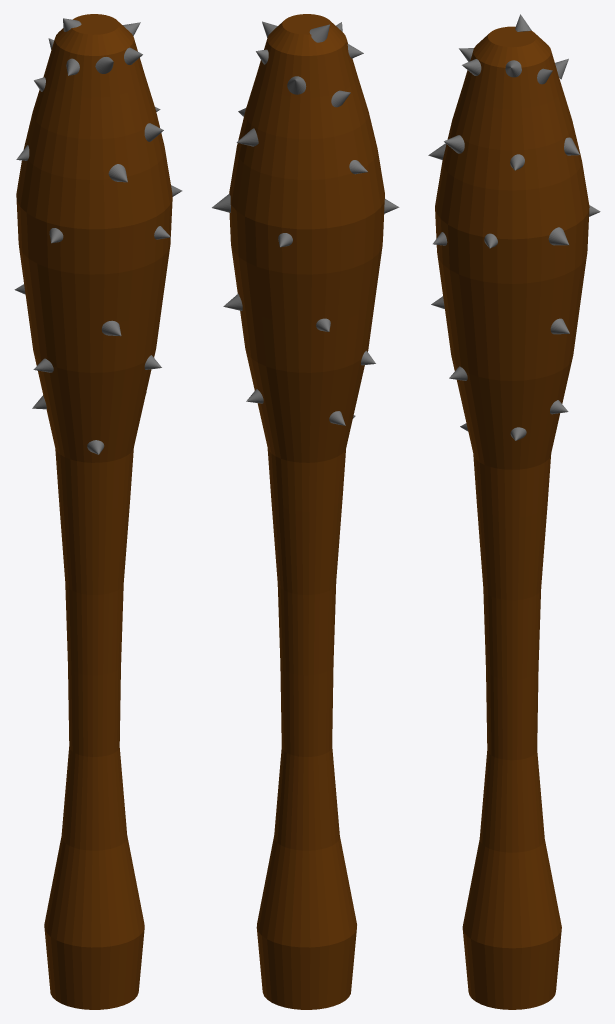
The model's file is club.glb.
3 views of the same model, side by side, from view 1: azimuth 30°, elevation 25°; view 2: azimuth 150°, elevation 25°; view 3: azimuth 270°, elevation 25° (orthographic).
Parts seen in each view (by area): view 1: Cylinder; view 2: Cylinder; view 3: Cylinder.
Part boxes in pixels (x1=…): Cylinder: x1=16, y1=14, x2=172, y2=1009; Cylinder: x1=229, y1=14, x2=384, y2=1009; Cylinder: x1=435, y1=26, x2=589, y2=1009.
Bounding box in the file's own units: 0.2491 × 1.58 × 0.2574.
